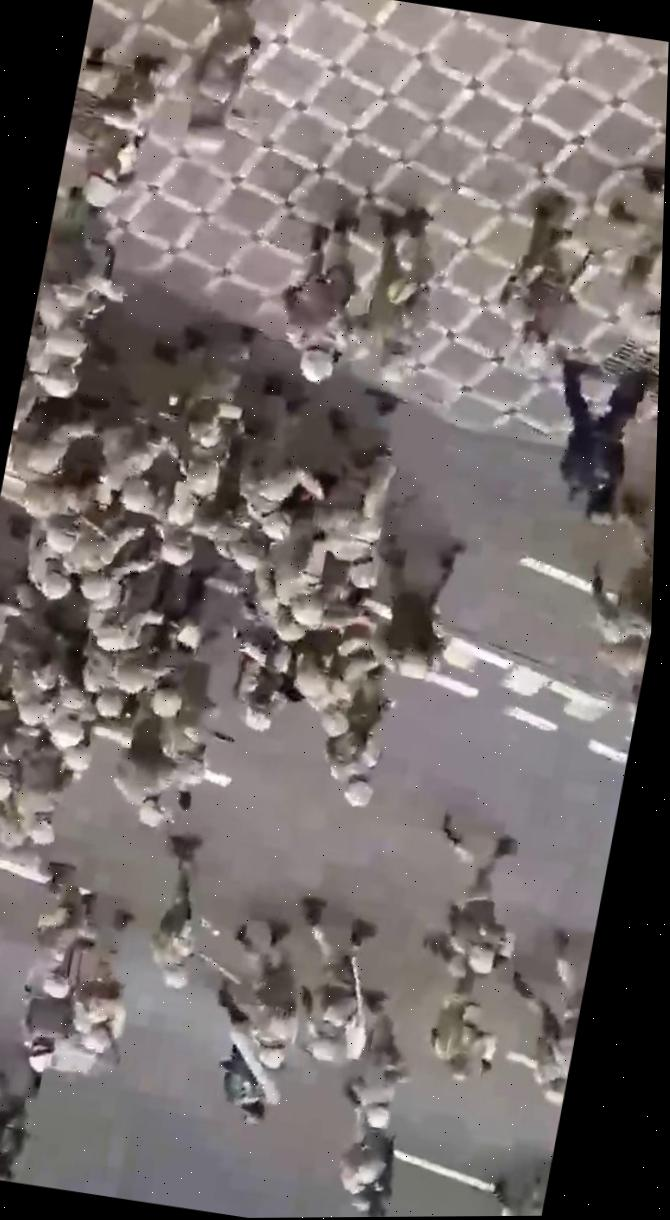person: (300, 383, 412, 588), (535, 353, 659, 528), (66, 332, 185, 513), (26, 184, 147, 362), (225, 368, 346, 545), (265, 199, 378, 386), (151, 312, 264, 497), (414, 809, 539, 976), (56, 39, 172, 215), (273, 894, 392, 1064), (344, 201, 450, 384), (494, 188, 600, 369), (50, 890, 152, 1065), (210, 911, 318, 1071), (357, 530, 471, 681), (0, 370, 108, 523), (170, 0, 273, 156), (194, 978, 300, 1128), (140, 830, 235, 992), (584, 161, 665, 343), (147, 649, 250, 787), (102, 680, 193, 828), (489, 968, 586, 1105), (313, 661, 402, 810), (333, 988, 425, 1131), (15, 857, 104, 998), (422, 954, 511, 1083), (320, 1083, 406, 1216), (281, 627, 378, 739), (9, 943, 85, 1075), (527, 926, 595, 1073), (0, 737, 87, 848), (0, 1042, 51, 1184)
